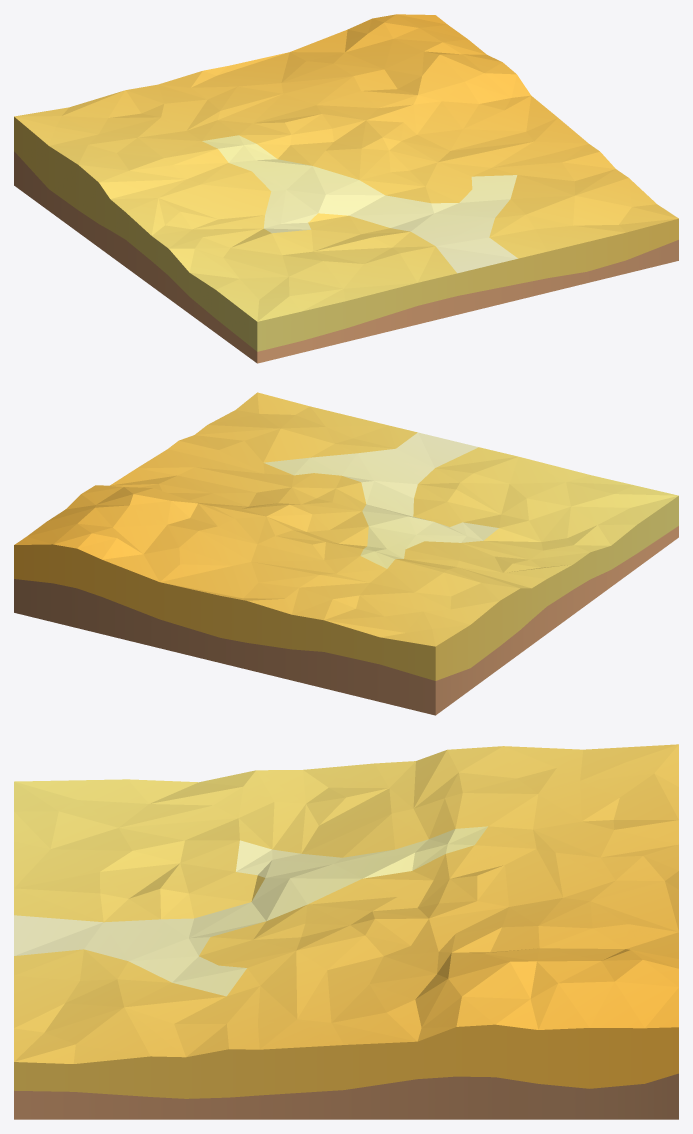
File: land autumn hot springs.fbx
3 renders of one model, top to bottom at view 1: azimuth 30°, elevation 25°; view 2: azimuth 150°, elevation 25°; view 3: azimuth 270°, elevation 25°, orthographic. The views are drawn at different scales.
Visible parts, largest first — view 1: land autumn hot springs; view 2: land autumn hot springs; view 3: land autumn hot springs.
Part boxes in pixels (x1=…): land autumn hot springs: x1=14, y1=14, x2=678, y2=363; land autumn hot springs: x1=14, y1=392, x2=678, y2=715; land autumn hot springs: x1=14, y1=744, x2=678, y2=1119.
Size of the model in its own units: 4500 by 892 by 4500.
